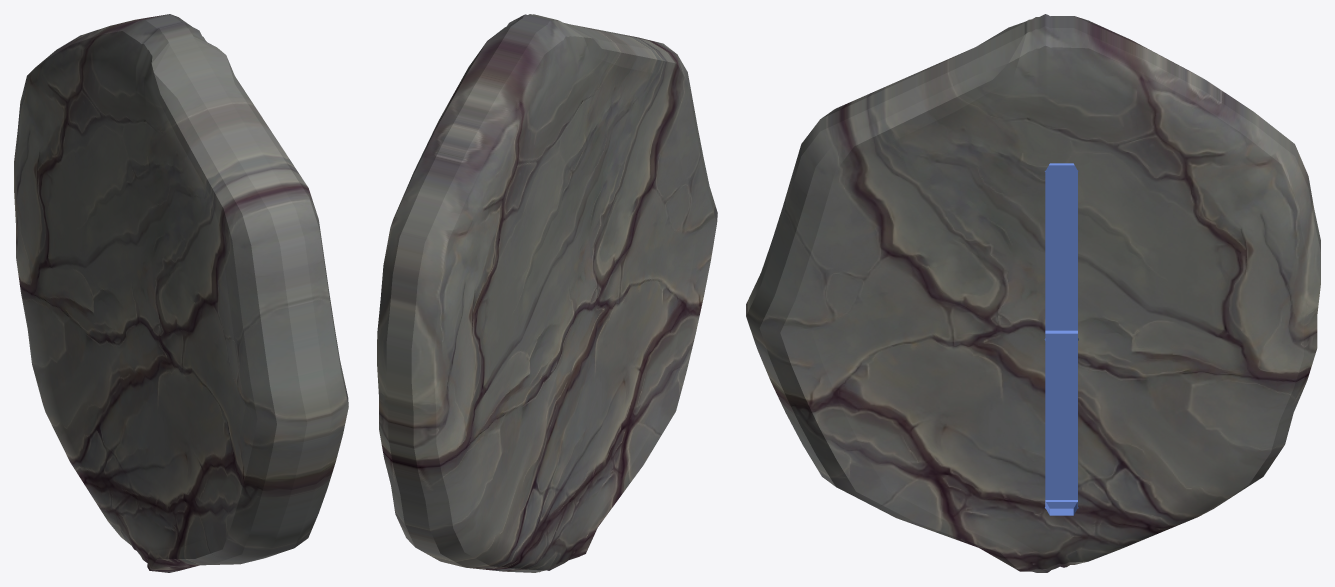
Rendered from Rune_Cryo.fbx.
The picture shows the model from 3 angles, left to right: view 1: azimuth 30°, elevation 25°; view 2: azimuth 150°, elevation 25°; view 3: azimuth 270°, elevation 25°; orthographic projection.
Visible parts, largest first — view 1: Rune_Cryo; view 2: Rune_Cryo; view 3: Rune_Cryo.
Part boxes in pixels (x1,y1,x2,y2): Rune_Cryo: [14, 14, 348, 572]; Rune_Cryo: [377, 14, 717, 572]; Rune_Cryo: [746, 14, 1320, 572].
Bounding box in the file's own units: 10.13 × 57.61 × 54.89.
